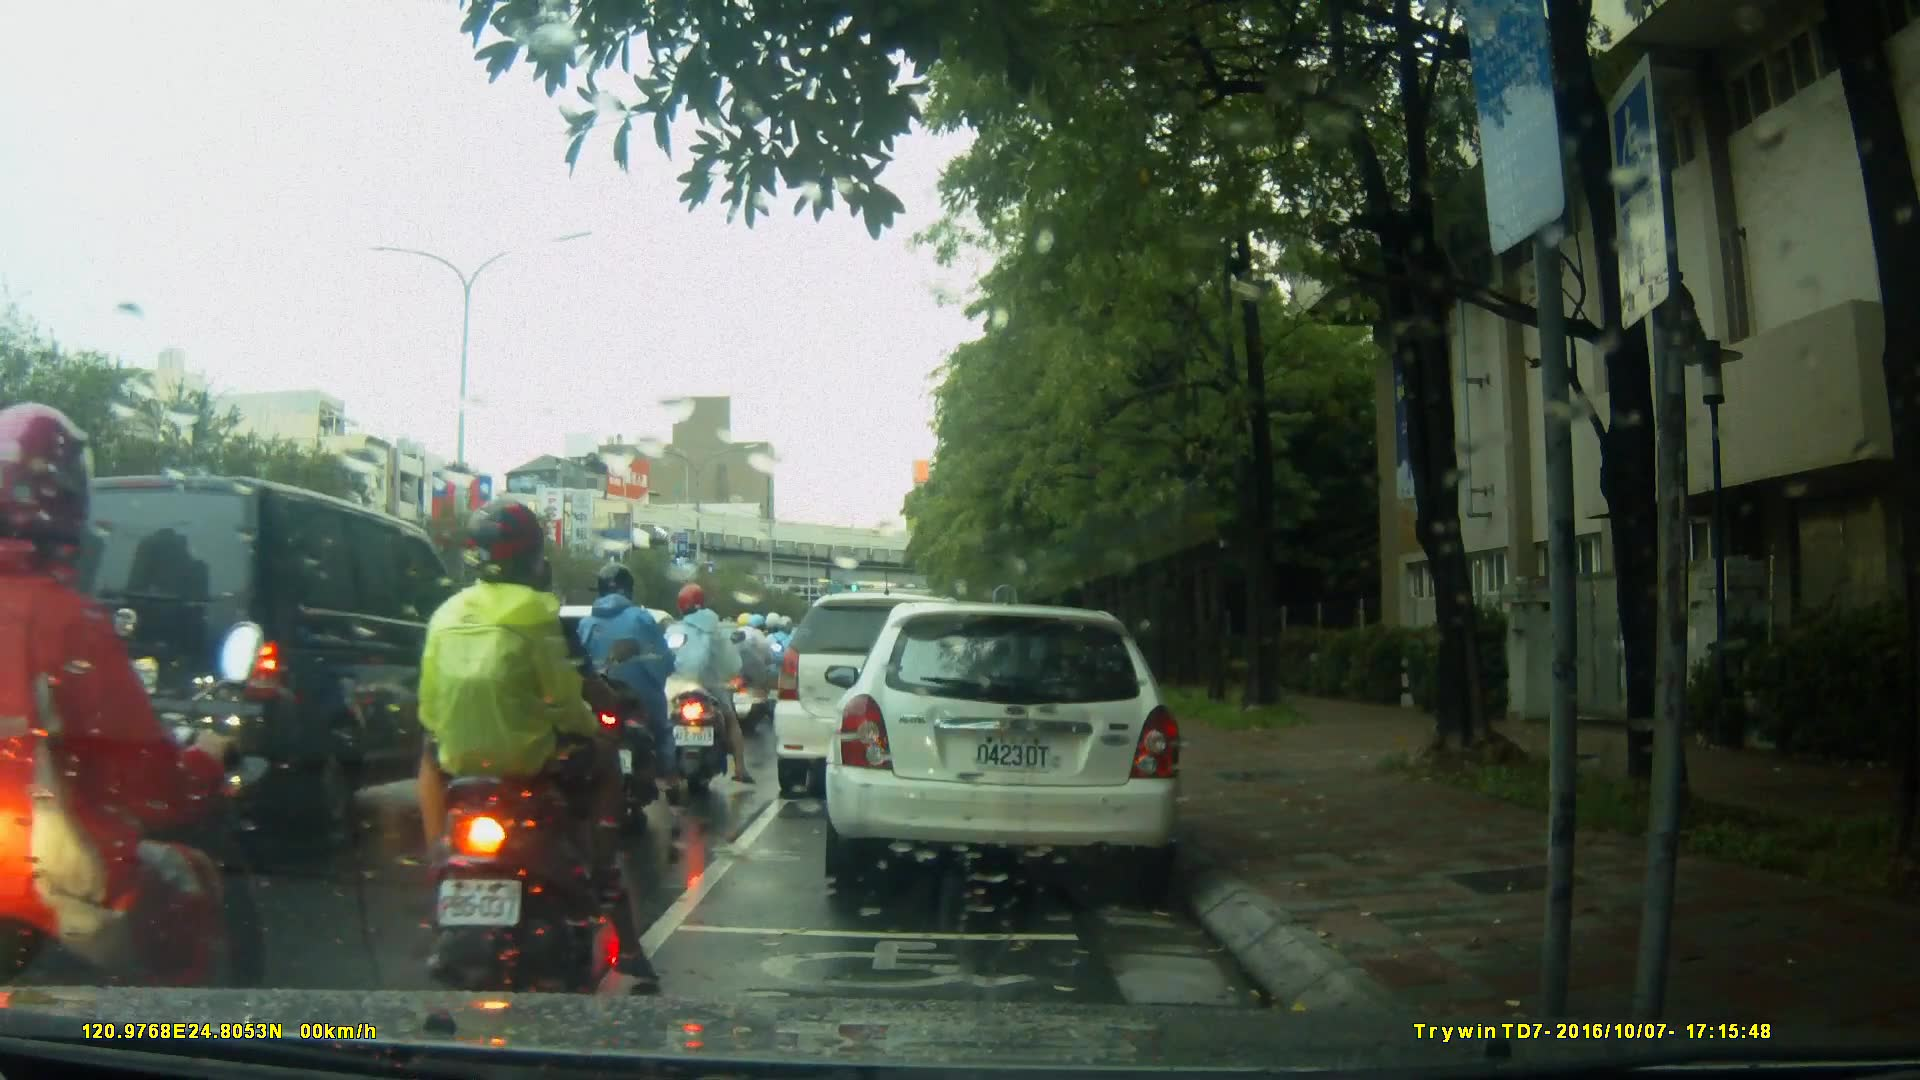rider: (4, 408, 275, 1077), (408, 499, 665, 991), (437, 567, 592, 905), (566, 565, 683, 835), (655, 585, 747, 792), (723, 612, 775, 734)
vehicle: (27, 465, 455, 861), (822, 604, 1188, 883), (774, 595, 995, 802), (442, 598, 691, 778)
